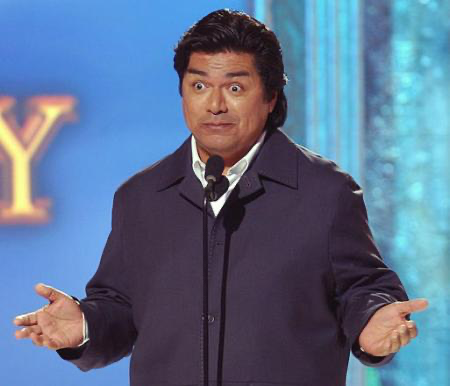Face: (177, 64, 270, 158)
